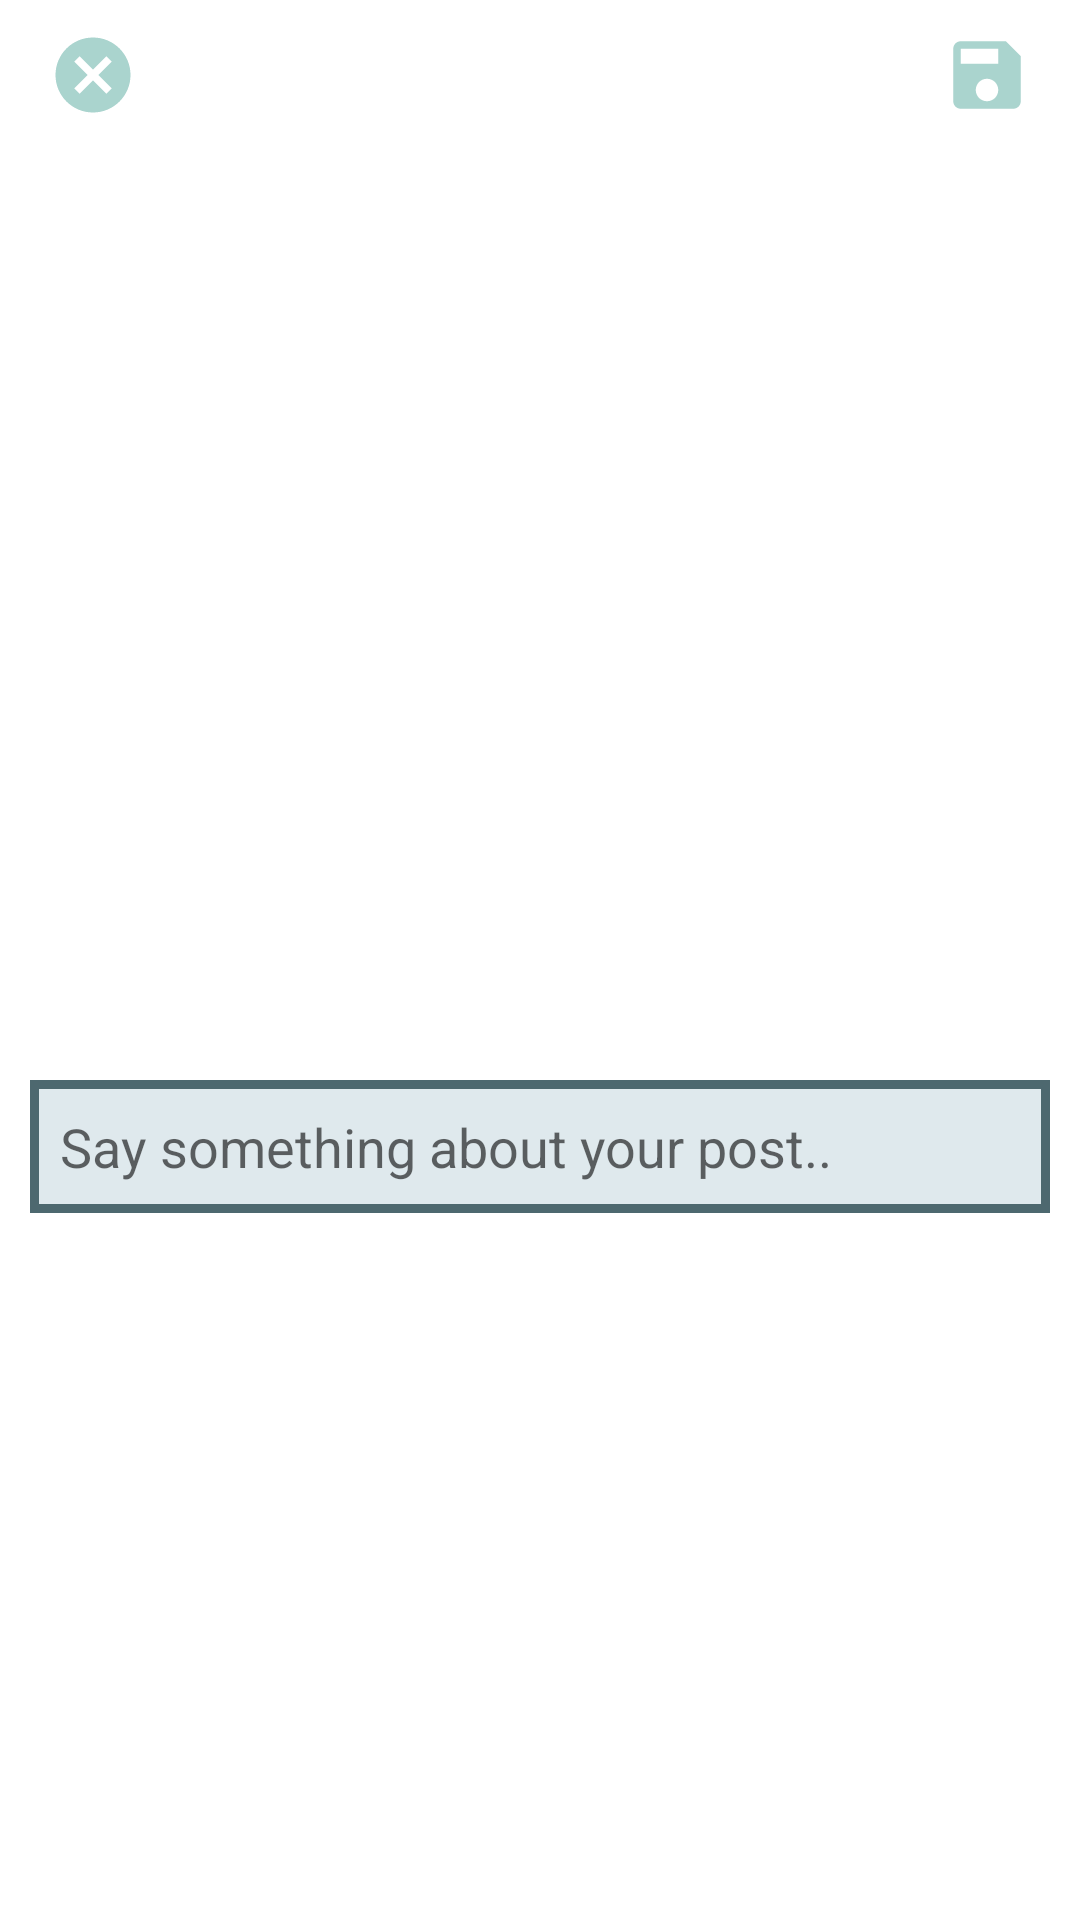

Where to tap for icons on this 1080px×1920px app screen, as (x,y):
cancel: (93,75)
save: (987,75)
